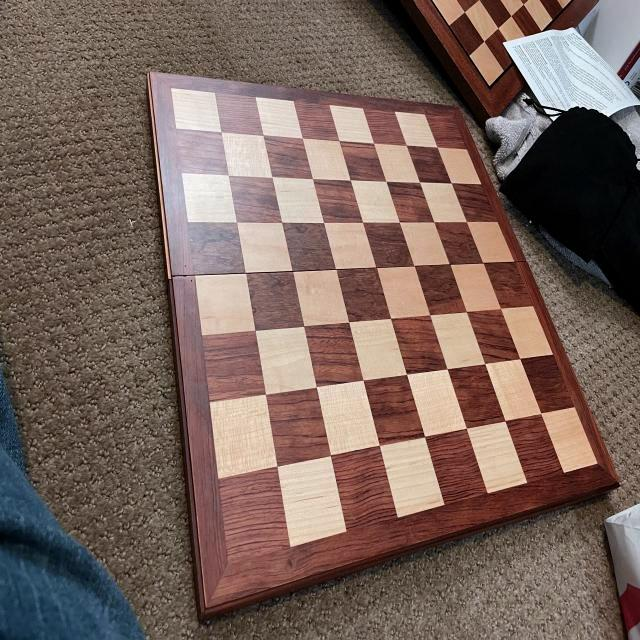chess-table-corners: (216, 532, 258, 588), (580, 435, 610, 486), (160, 70, 194, 114), (441, 100, 469, 136)
